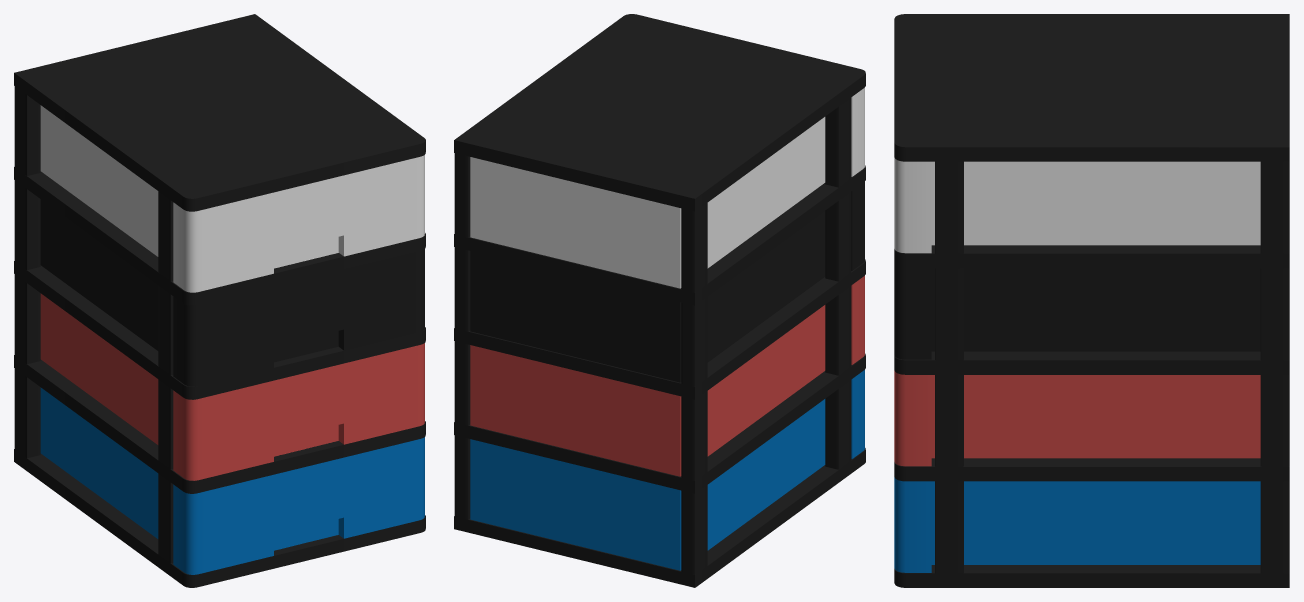
File: Drawer23.fbx
3 renders of one model, left to right at view 1: azimuth 30°, elevation 25°; view 2: azimuth 150°, elevation 25°; view 3: azimuth 270°, elevation 25°, orthographic. The views are drawn at different scales.
Visible parts, largest first — view 1: Drawer23_Body, Drawer23_1, Drawer23_3, Drawer23_2, Drawer23_4; view 2: Drawer23_Body, Drawer23_1, Drawer23_2, Drawer23_3, Drawer23_4; view 3: Drawer23_Body, Drawer23_1, Drawer23_3, Drawer23_2, Drawer23_4.
Part boxes in pixels (x1,y1,x2,y2): Drawer23_Body: [14, 14, 425, 587]; Drawer23_1: [40, 105, 424, 292]; Drawer23_3: [40, 293, 424, 480]; Drawer23_2: [40, 199, 424, 386]; Drawer23_4: [40, 387, 424, 574]; Drawer23_Body: [454, 14, 865, 587]; Drawer23_1: [470, 87, 864, 288]; Drawer23_2: [470, 181, 864, 382]; Drawer23_3: [470, 276, 864, 476]; Drawer23_4: [470, 370, 864, 570]; Drawer23_Body: [894, 14, 1289, 587]; Drawer23_1: [894, 157, 1260, 253]; Drawer23_3: [894, 370, 1260, 466]; Drawer23_2: [894, 264, 1260, 359]; Drawer23_4: [894, 477, 1260, 572].
Bounding box in the file's own units: 33.6 × 51.84 × 42.12.
